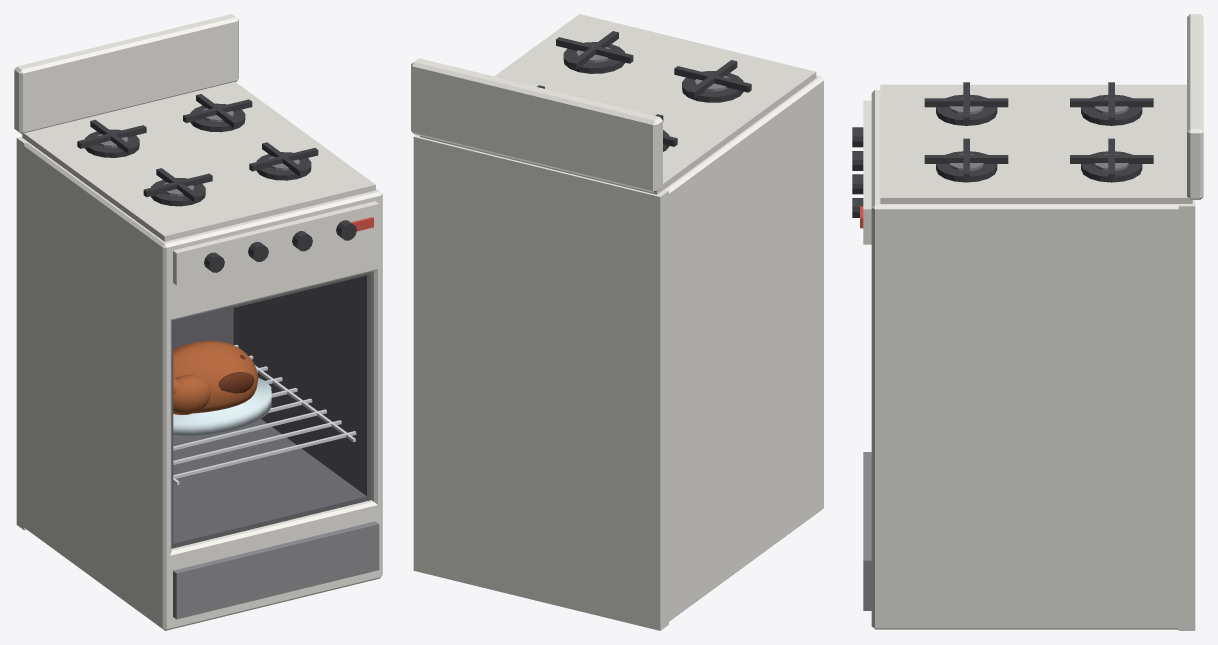
File: kitchen_stove.glb
3 views of the same model, side by side, from view 1: azimuth 30°, elevation 25°; view 2: azimuth 150°, elevation 25°; view 3: azimuth 270°, elevation 25° (orthographic). The views are drawn at different scales.
Visible parts, largest first — view 1: kitchen_stove; view 2: kitchen_stove; view 3: kitchen_stove.
Part boxes in pixels (x1,y1,x2,y2): kitchen_stove: (14,14,382,630); kitchen_stove: (411,14,823,630); kitchen_stove: (852,14,1203,630).
Size of the model in its own units: 0.5 by 0.99 by 0.63.
